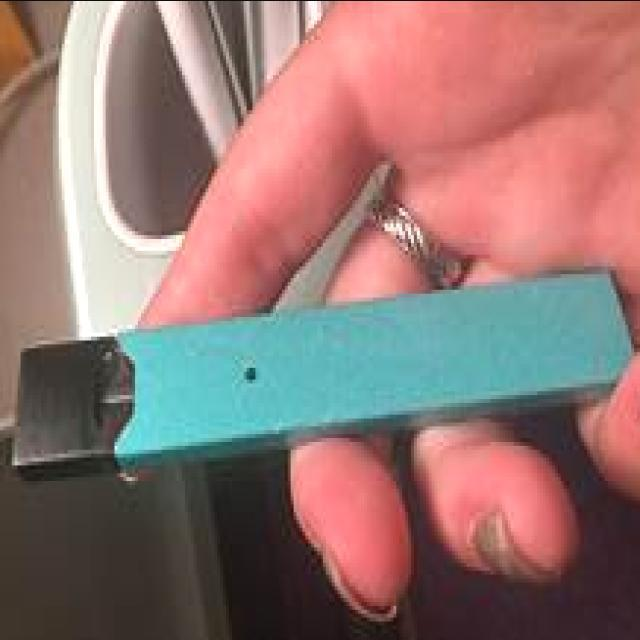Hazard: (8, 262, 638, 486)
